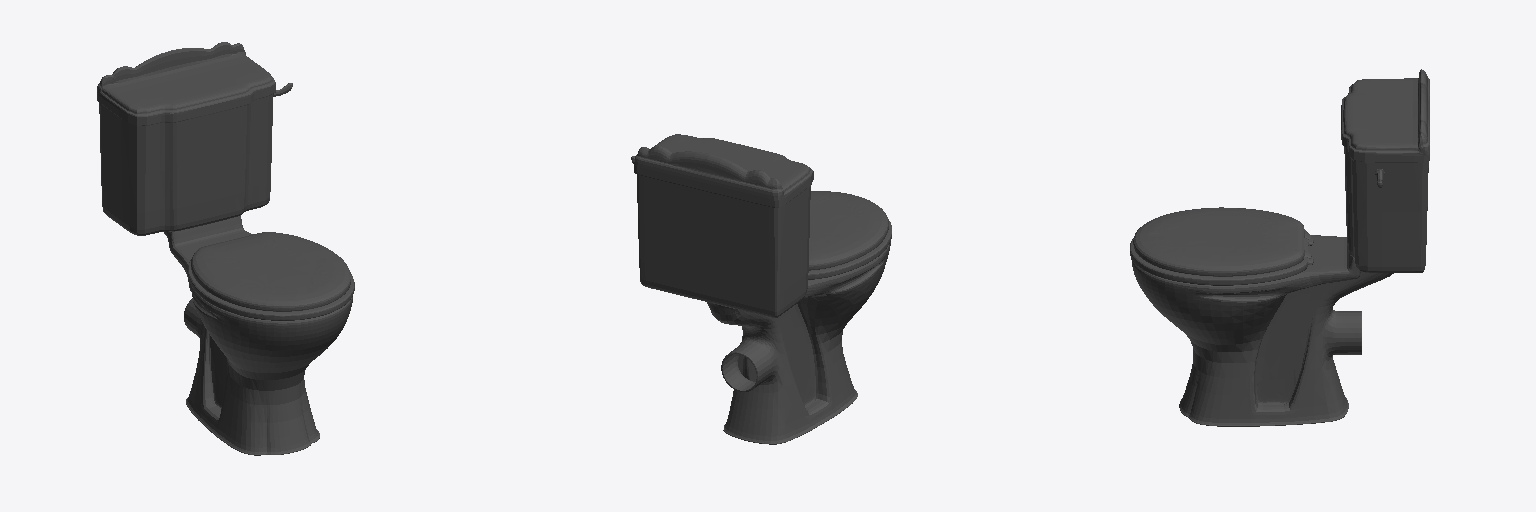
The model's file is toilet-water-closet.obj.
3 views of the same model, side by side, from view 1: azimuth 30°, elevation 25°; view 2: azimuth 150°, elevation 25°; view 3: azimuth 270°, elevation 25° (orthographic).
Visible parts, largest first — view 1: WC; view 2: WC; view 3: WC.
Boxes of the visible parts, box(x1,y1,x2,y2) form: WC: box(97, 42, 354, 455); WC: box(631, 134, 891, 444); WC: box(1130, 69, 1429, 426).
Bounding box in the file's own units: 19.57 × 33.97 × 29.51.